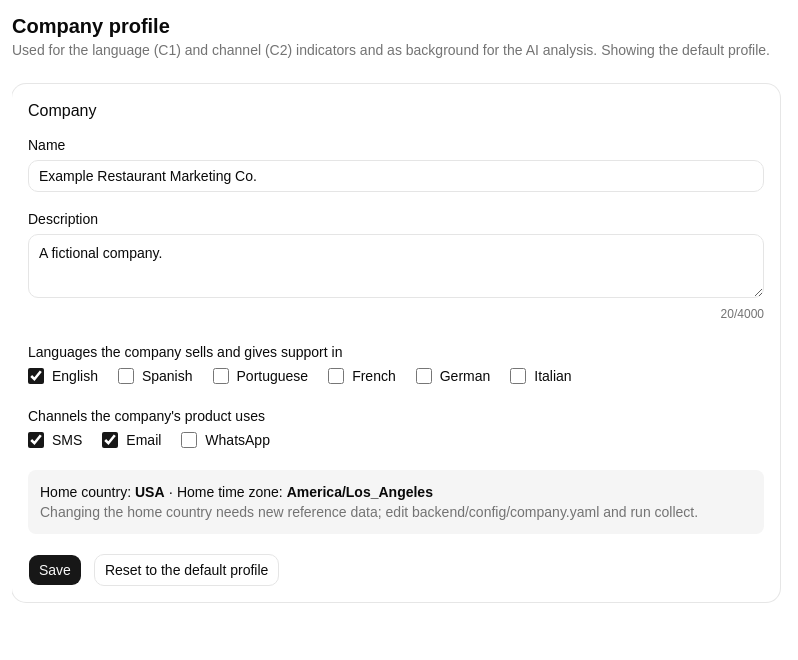
Scenario: validation error from the server is shown
Click the button "Save". click: (55,570)
box: [28,554,82,586]
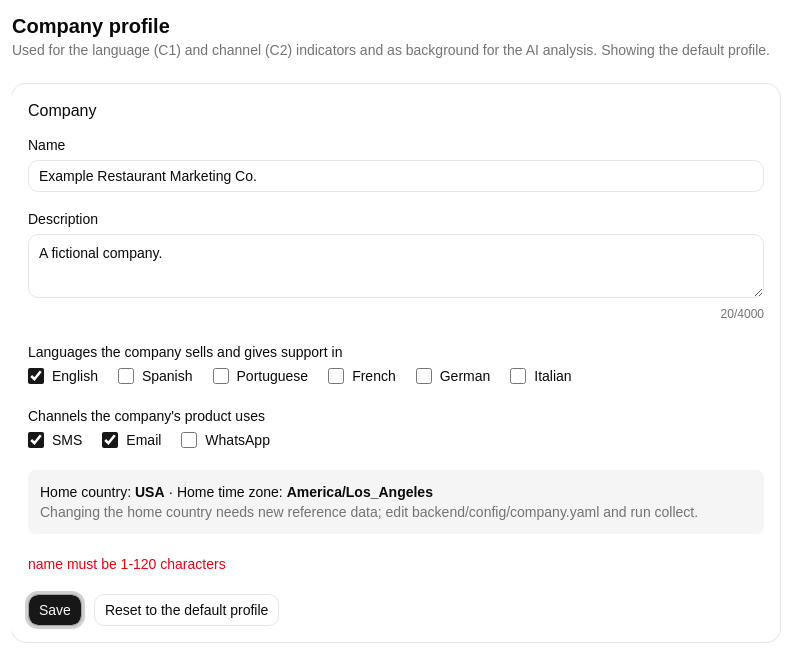
Expected: the text "name must be 1-120 characters" is shown, [28,556,226,572]
